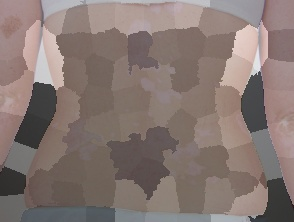vitiligo: (51, 0, 241, 201), (0, 11, 36, 134), (260, 100, 294, 161)
